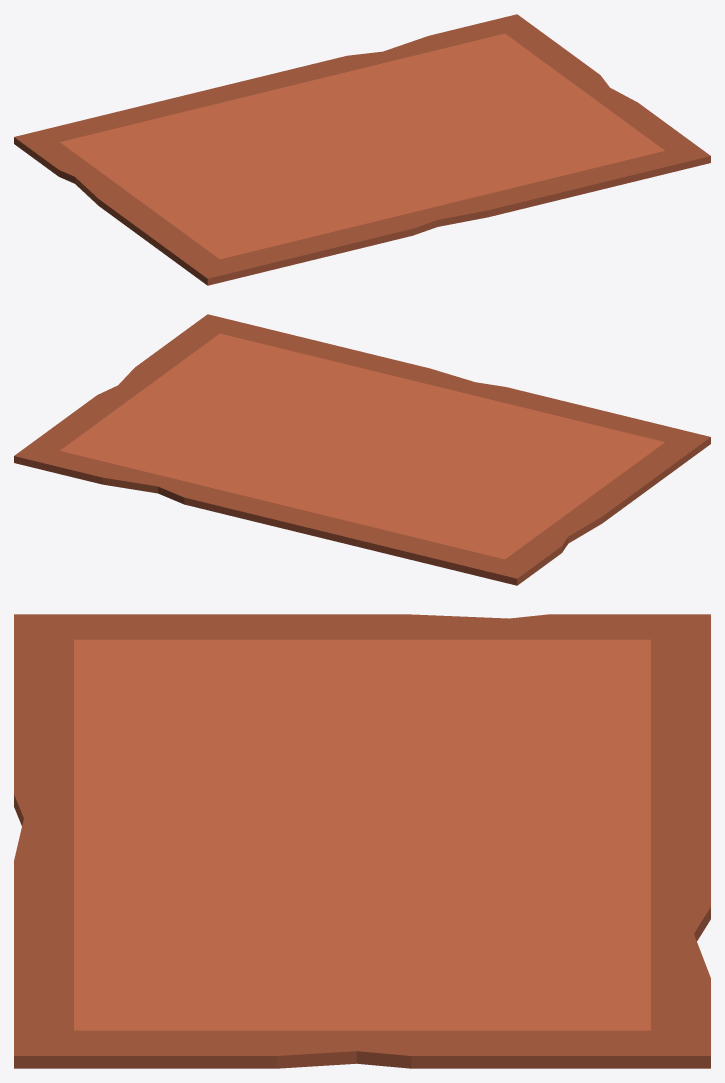
The model's file is Carpet_04.fbx.
3 views of the same model, one above another, from view 1: azimuth 30°, elevation 25°; view 2: azimuth 150°, elevation 25°; view 3: azimuth 270°, elevation 25° (orthographic). The views are drawn at different scales.
Parts seen in each view (by area): view 1: Carpet_04; view 2: Carpet_04; view 3: Carpet_04.
Boxes of the visible parts, <box> form: Carpet_04: <box>14,14,710,285</box>; Carpet_04: <box>14,314,710,585</box>; Carpet_04: <box>14,614,710,1068</box>.
Bounding box in the file's own units: 150 × 2 × 100.
